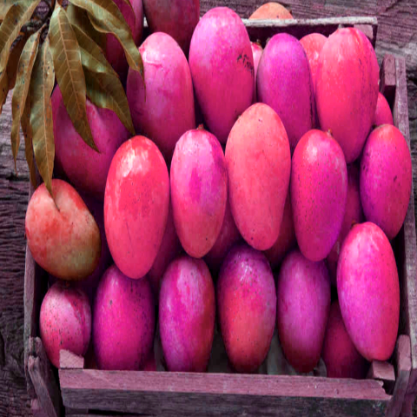mango: (220, 95, 298, 264), (308, 27, 391, 181), (100, 125, 173, 284), (331, 208, 404, 362), (180, 10, 257, 144), (287, 124, 360, 263), (158, 237, 221, 398), (17, 178, 97, 292), (163, 117, 228, 252), (269, 236, 331, 365), (356, 121, 414, 252)
